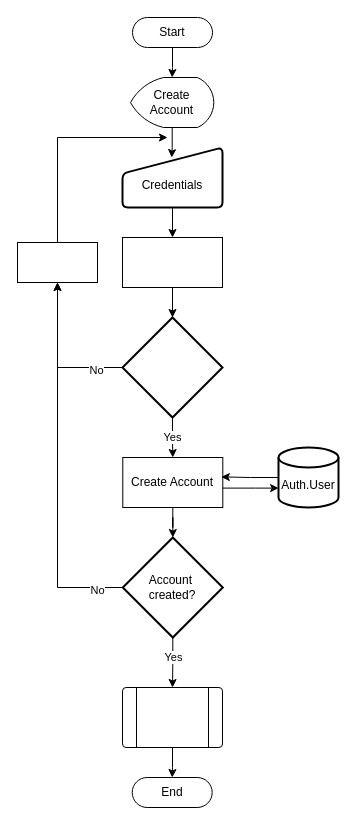
This 357x825 diagram has some shape labels left out. The shapes that lost their labels are listed below. From the top down, each one's box as (x1, y1, x2, y2) in pixels, then its label:
(16, 242, 98, 282): Show error
(122, 236, 222, 288): Verify Input
(121, 316, 223, 418): Credentials valid?
(122, 686, 222, 748): Verification
